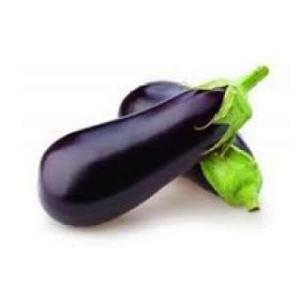eggplant: (40, 77, 246, 227), (120, 81, 264, 209)
